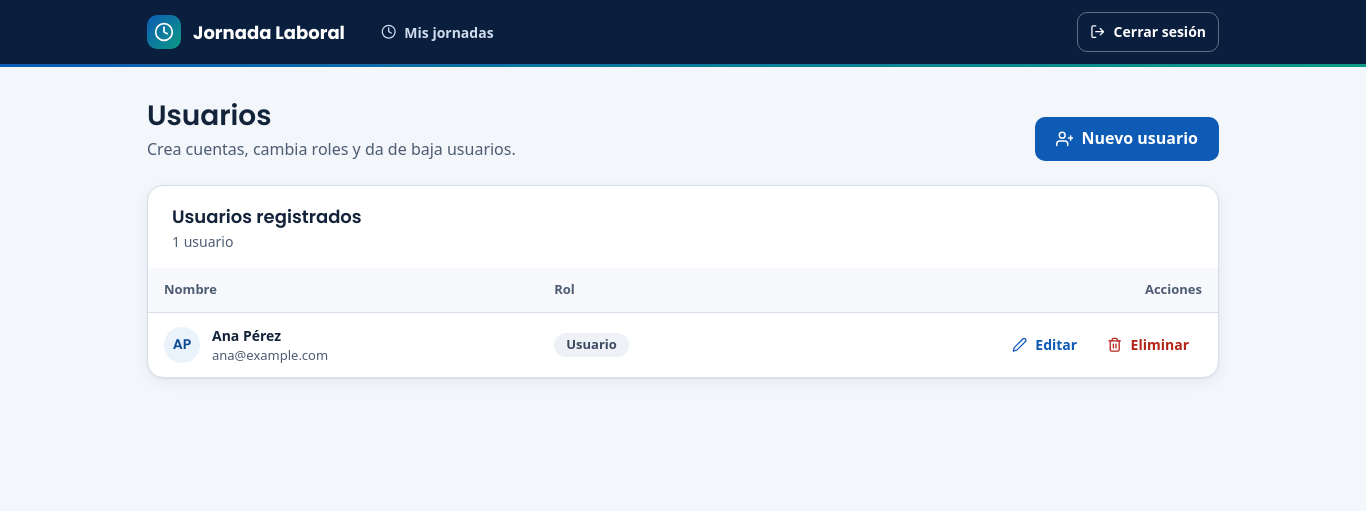
Scenario: deletes a user after confirmation
The width and height of the screenshot is (1366, 511).
Click the button with aria-label "Eliminar a Ana Pérez". click: {"x": 1148, "y": 345}
box: x1=1094 y1=327 x2=1202 y2=363
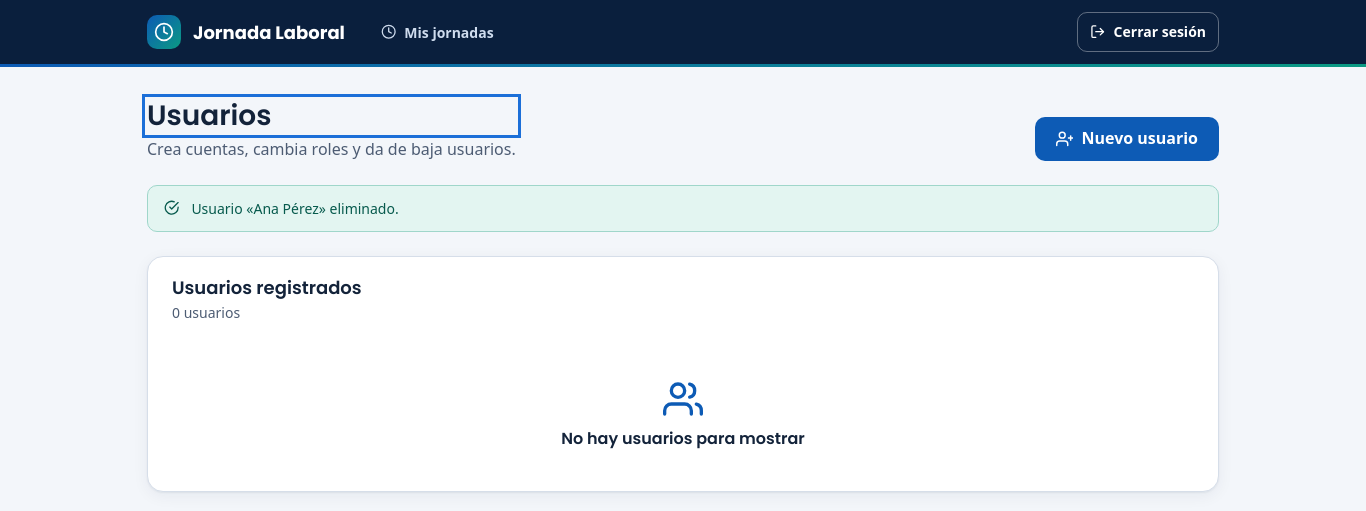
Result: the text "Usuario «Ana Pérez» eliminado." is shown at x1=191 y1=198 x2=399 y2=219
Result: the text "ana@example.com" is gone
